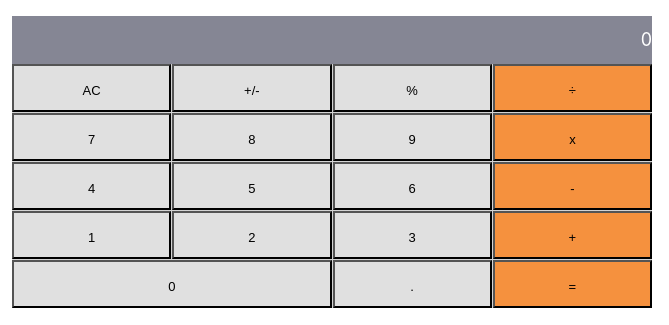
Test: User interactions › Calculating 5 x 3 on calculator
Click the button "3" at (412, 235), box 332,211 -> 492,259
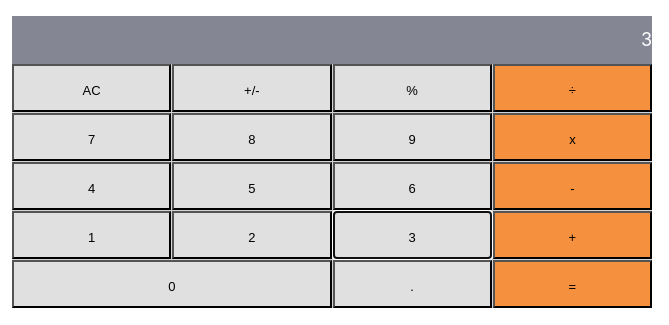
Click the button "x" at (572, 137), box 493,113 -> 652,161
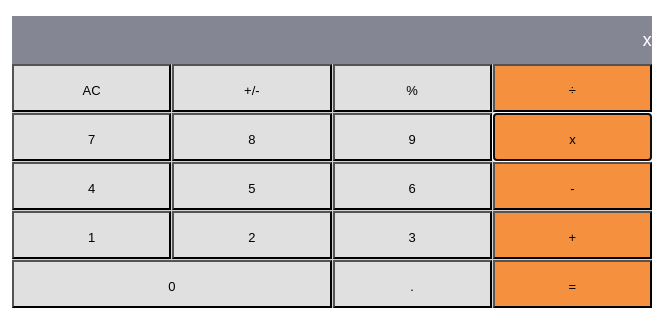
Click the button "9" at (412, 137), box 332,113 -> 492,161
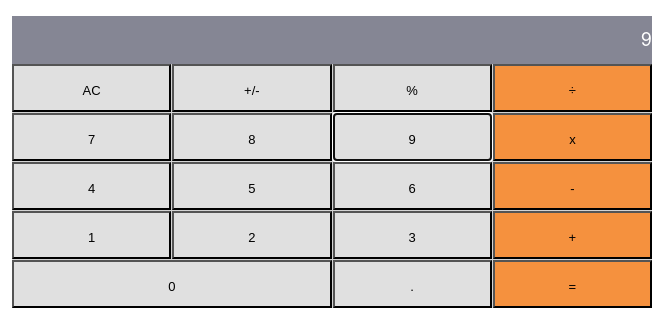
Click the button "=" at (572, 284), box 493,260 -> 652,308
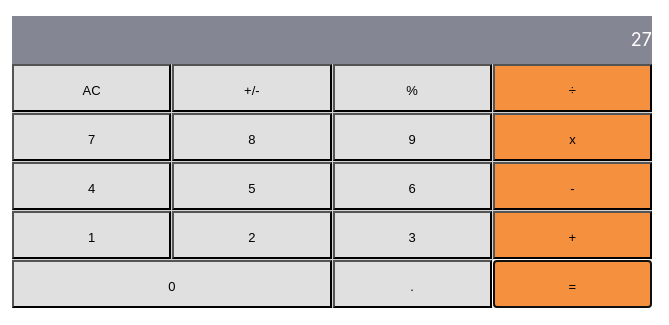
Expected: the text with test id "displayCalc" reads "27", 631,29 -> 652,50
